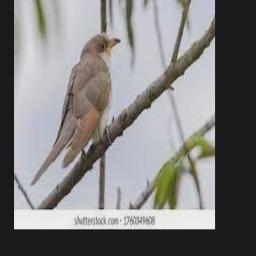Cuckoo: (30, 33, 121, 187)
